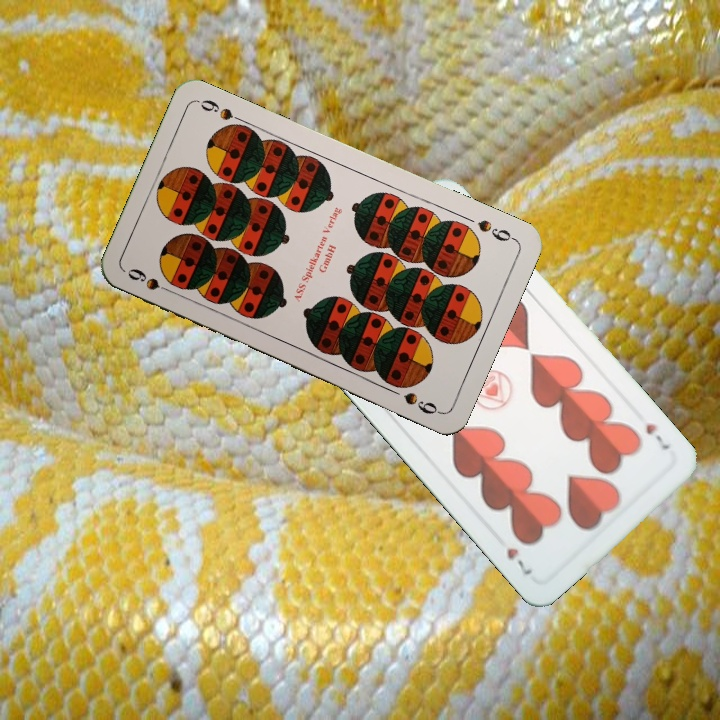H7: (641, 419, 672, 452)
S9: (123, 264, 179, 297), (473, 215, 518, 245)
